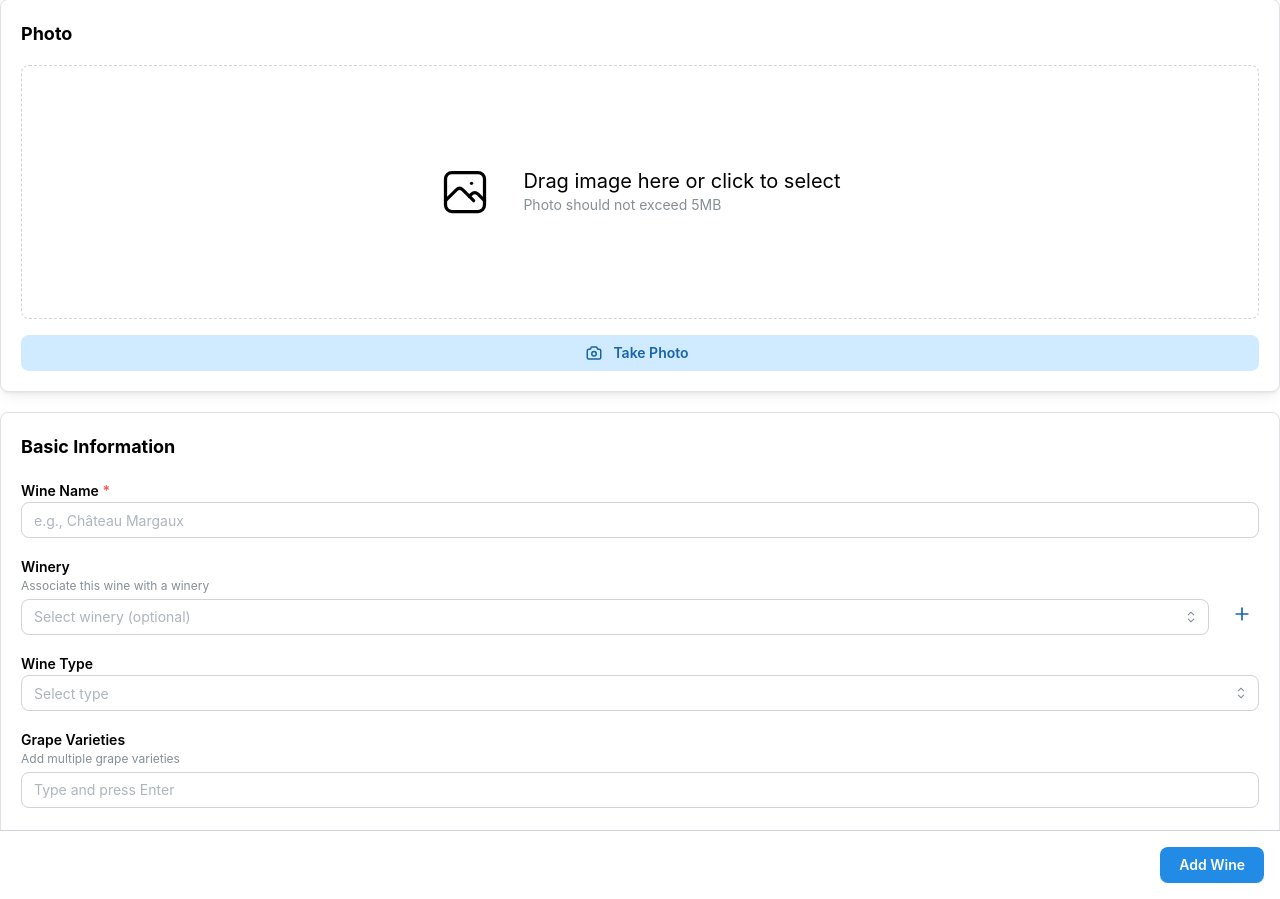
WineForm › rejects an end year that is before the start year
In the field labelled "Wine Name *": [640, 520] box [21,502,1259,538], type "Test"
(page scrolled)
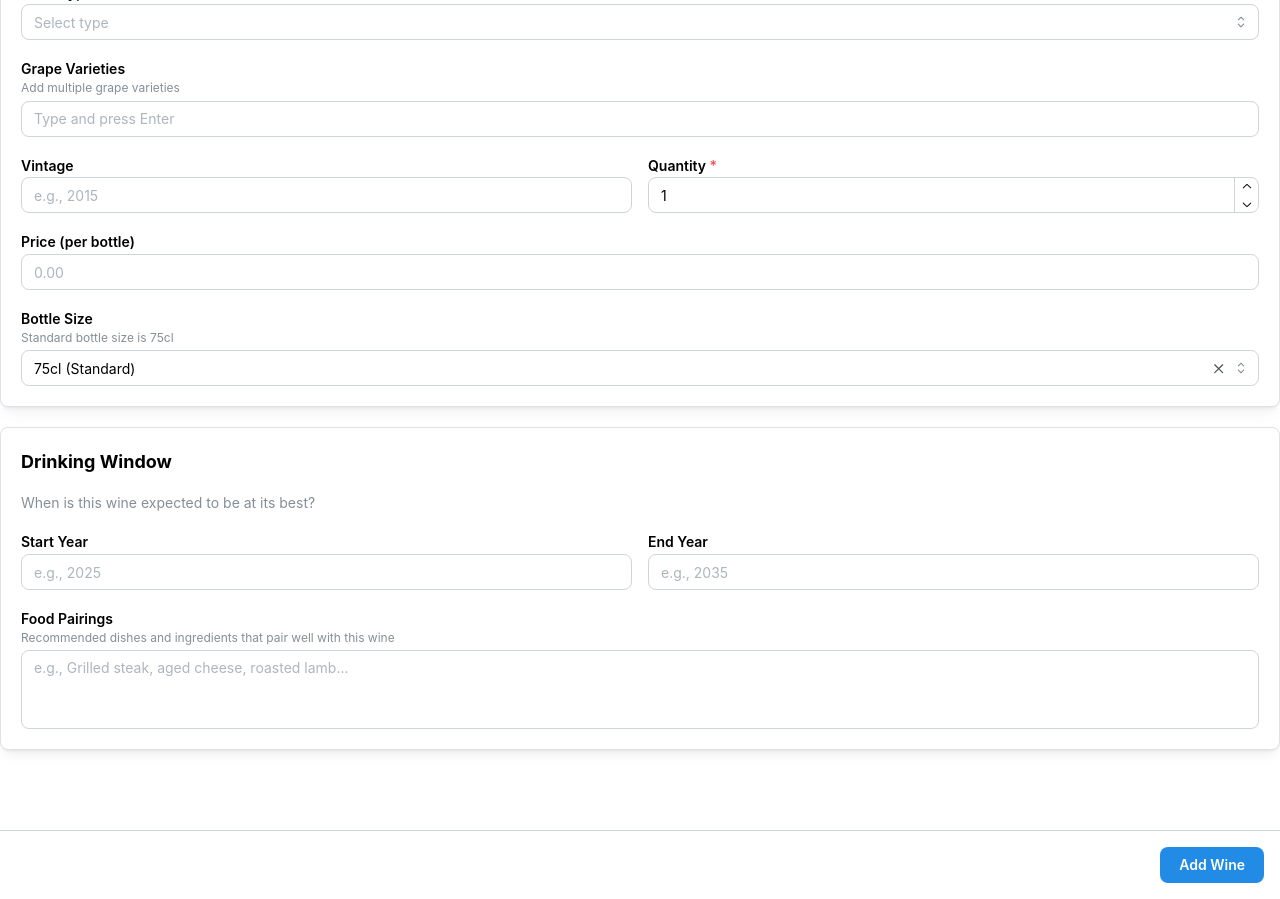
In the field labelled "Start Year": [326, 572] box [21,554,632,590], type "2030"
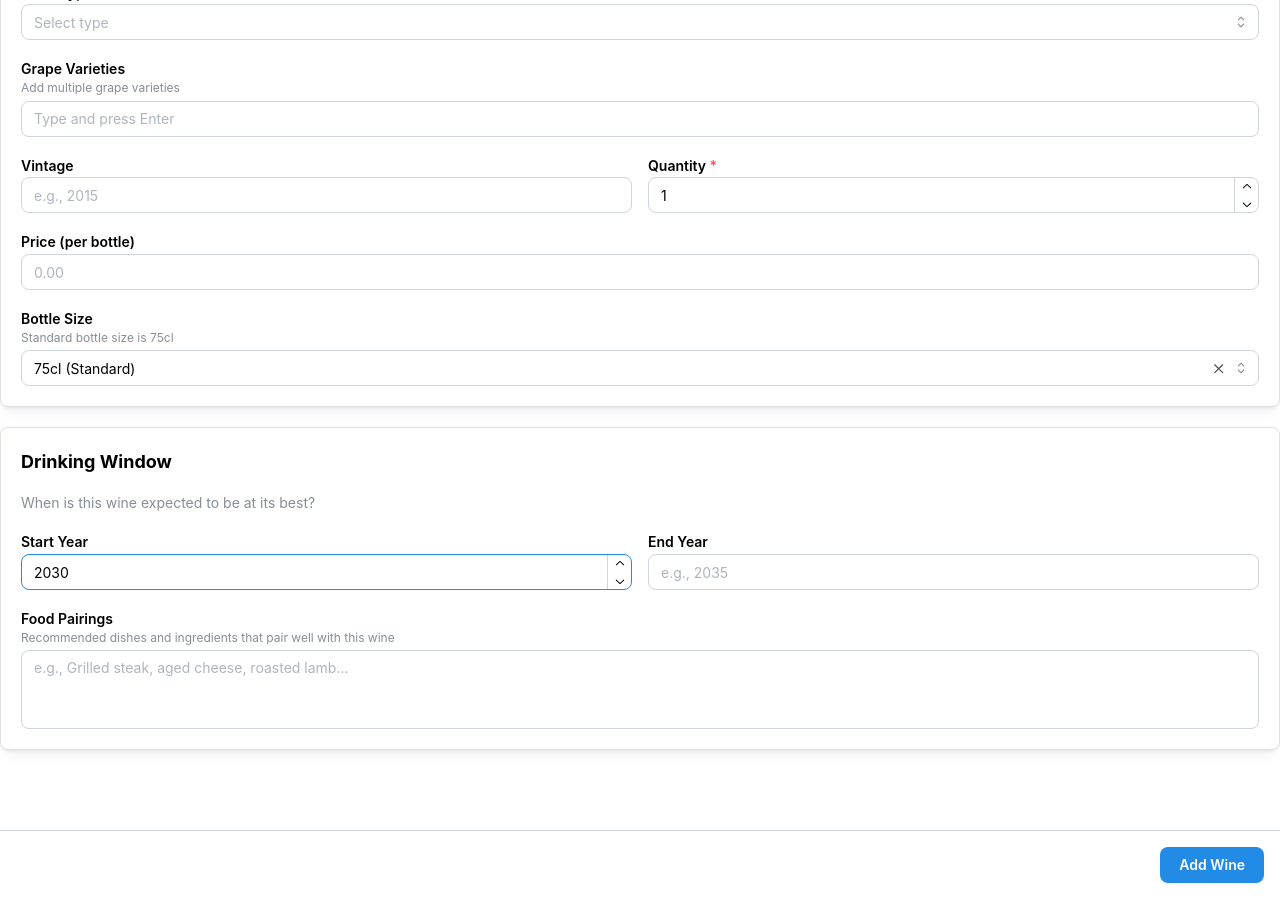
In the field labelled "End Year": [954, 572] box [648,554,1259,590], type "2025"
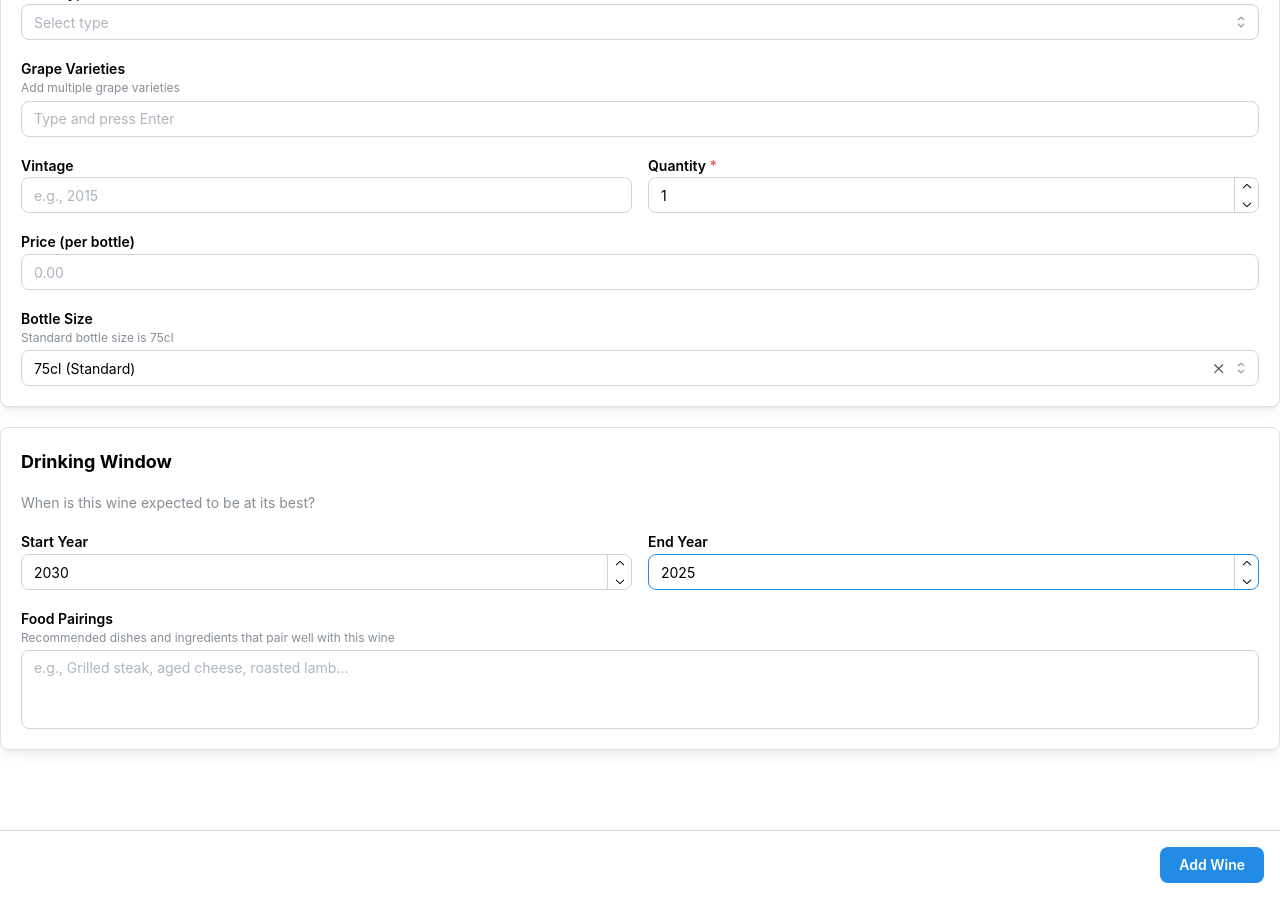
Click the button "Add Wine": [1212, 865] box [1160,847,1264,883]
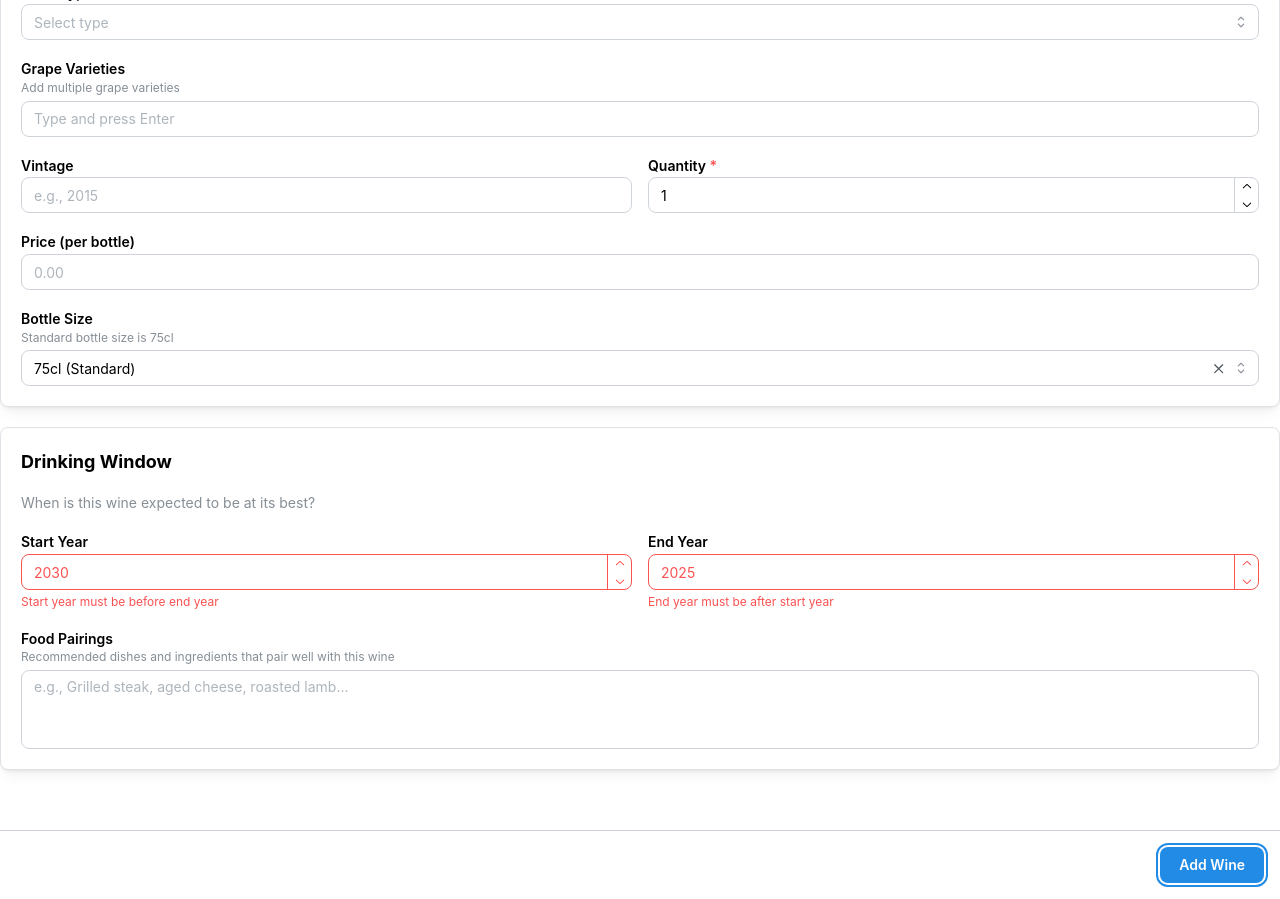
Now the text "Start year must be before end year" is shown, box [21,594,219,609]
